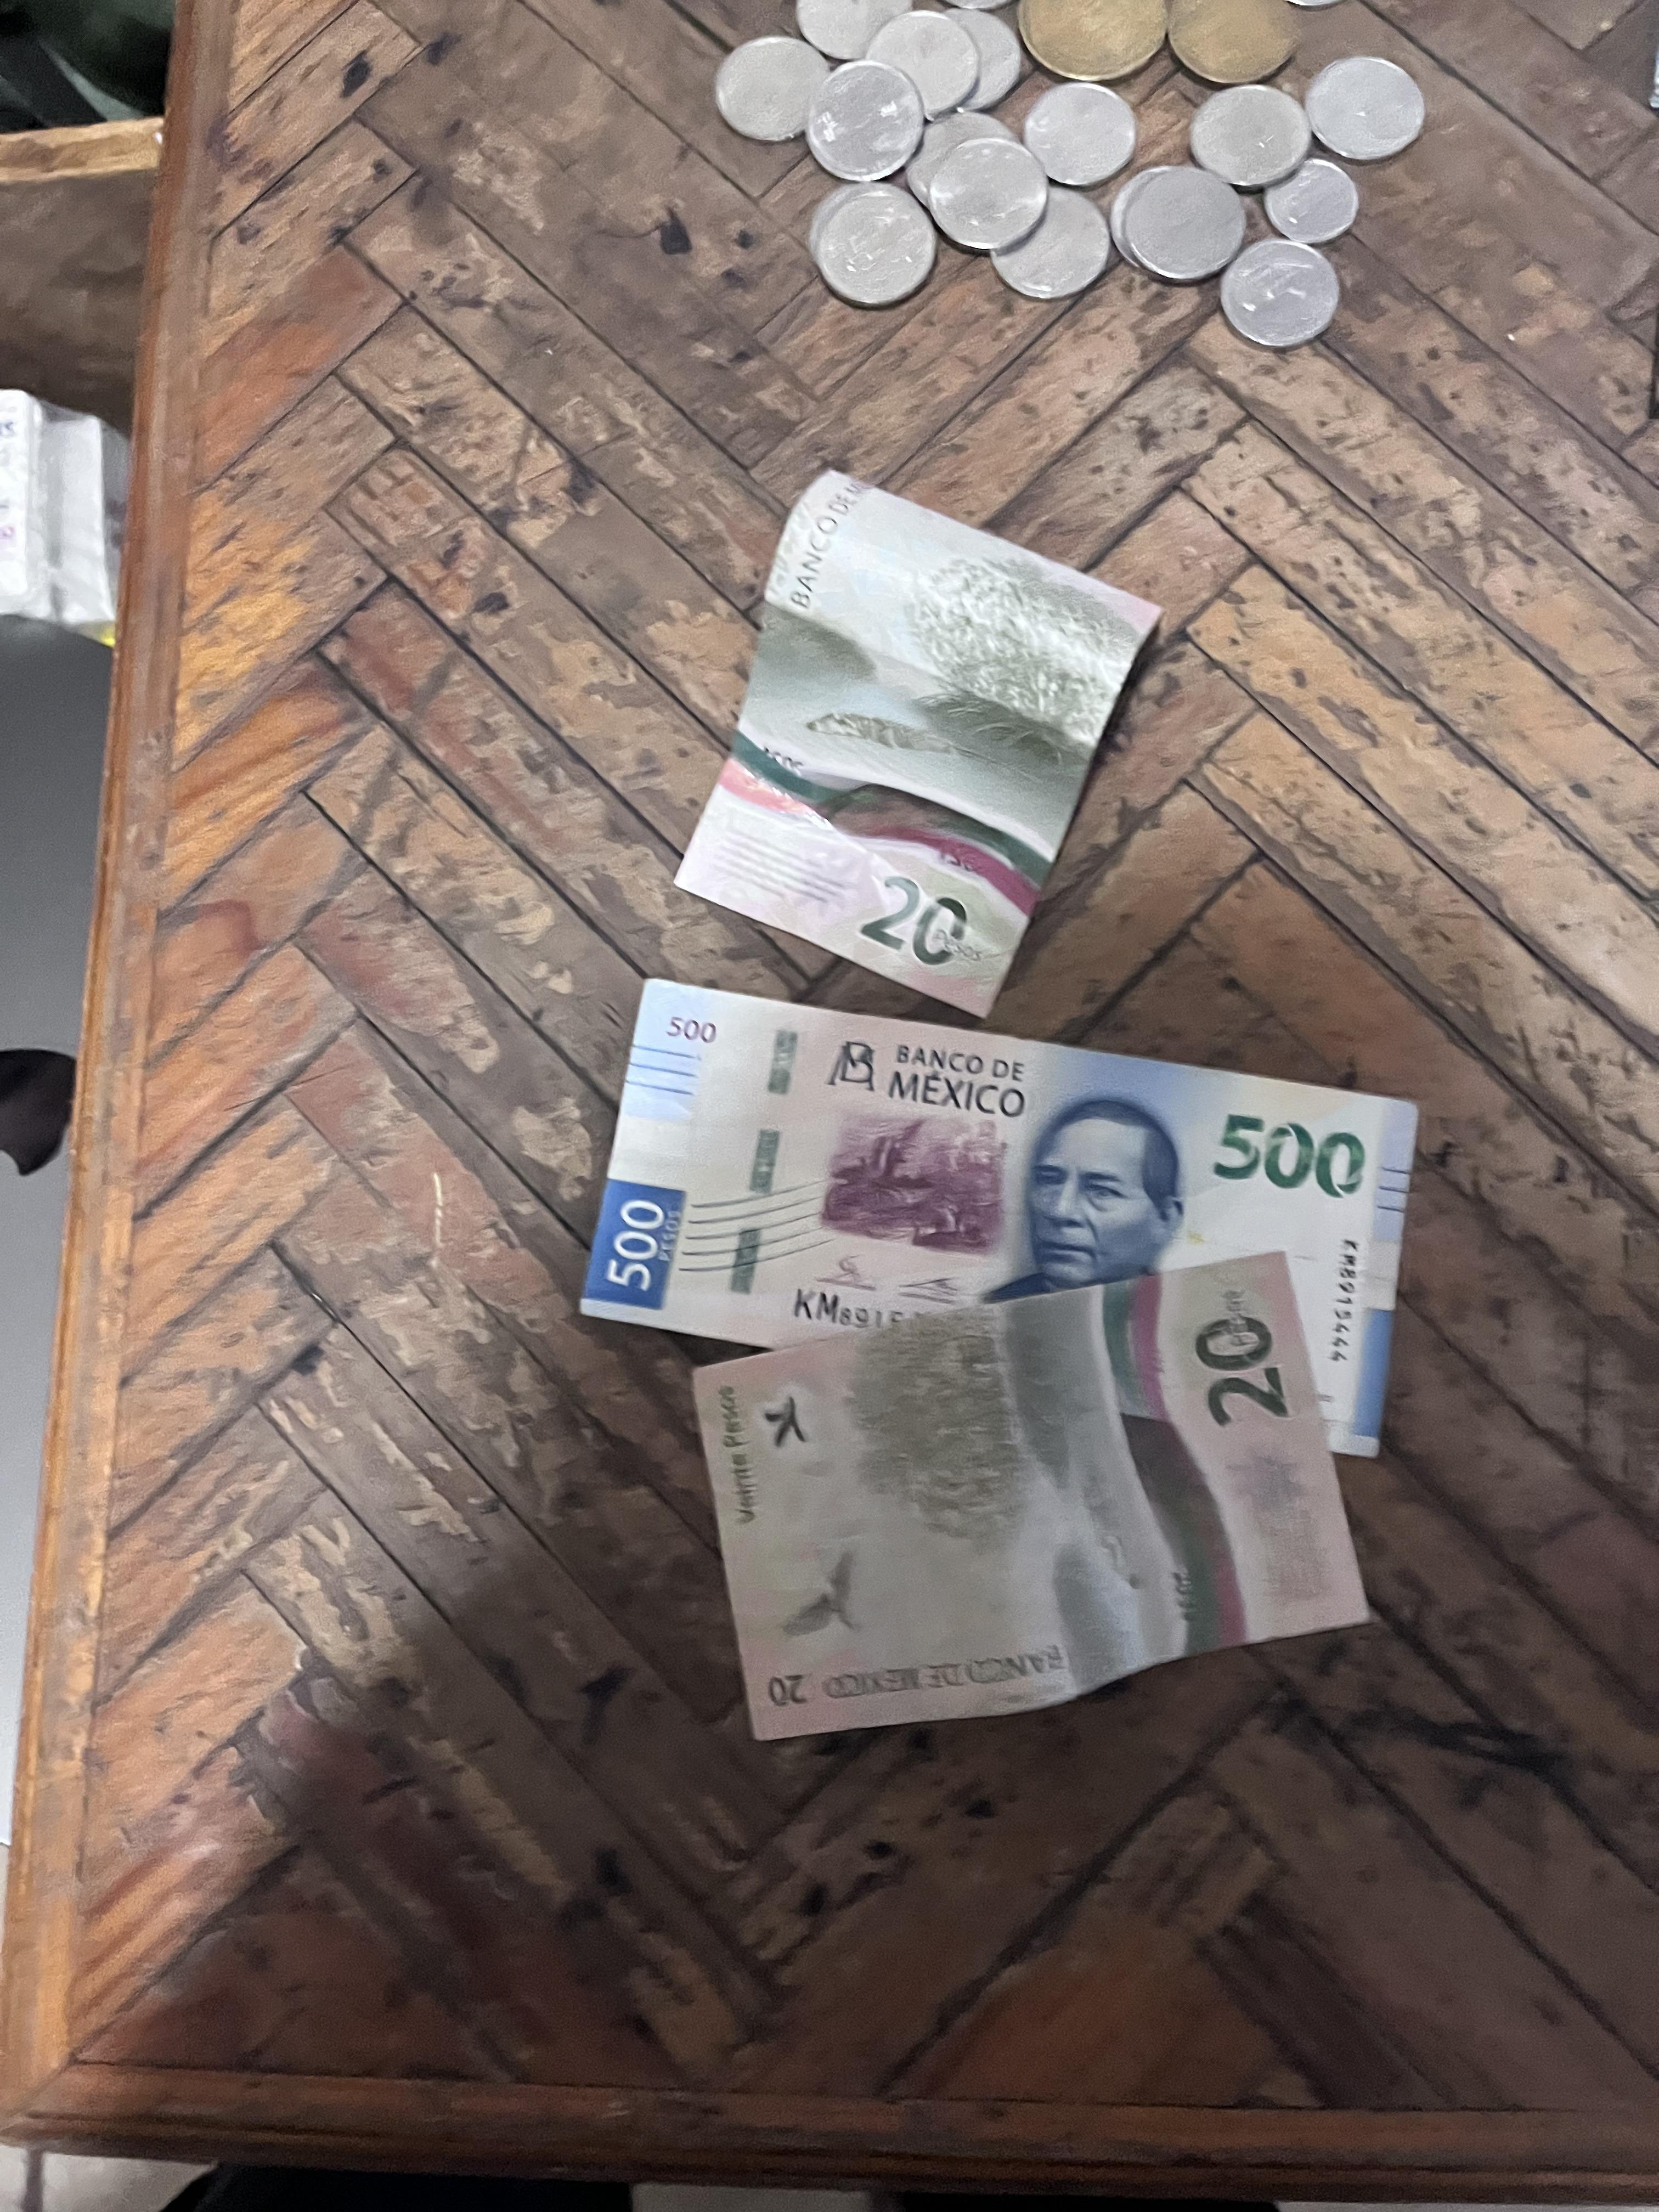20: (687, 1254, 1370, 1752), (671, 472, 1161, 1024)
500 nuevo: (579, 981, 1419, 1458)
